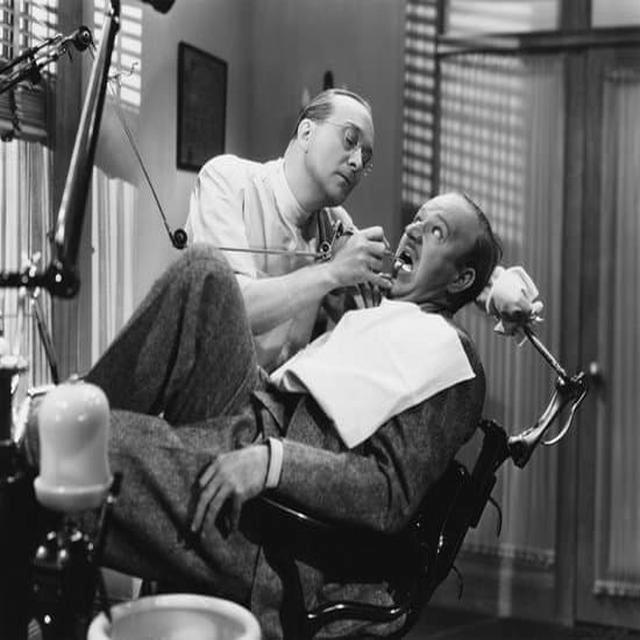Fear: (393, 195, 450, 288)
